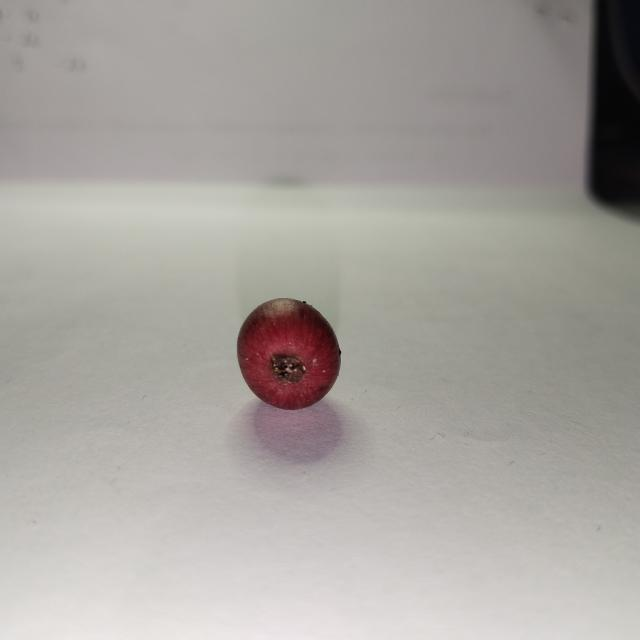Infectado: (237, 298, 340, 410)
